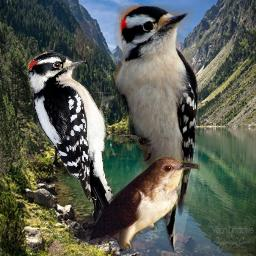Cuckoo: (69, 156, 200, 251)
Woodpecker: (110, 5, 198, 253), (28, 52, 114, 223)
